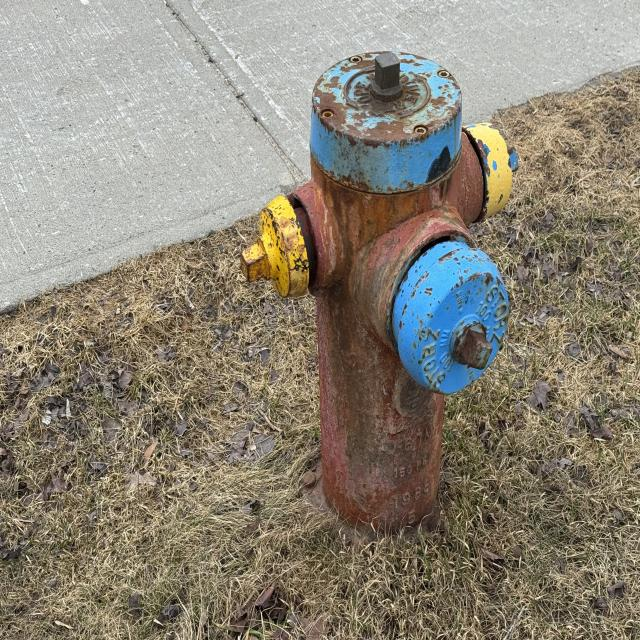Fire hydrant: (239, 48, 520, 550)
